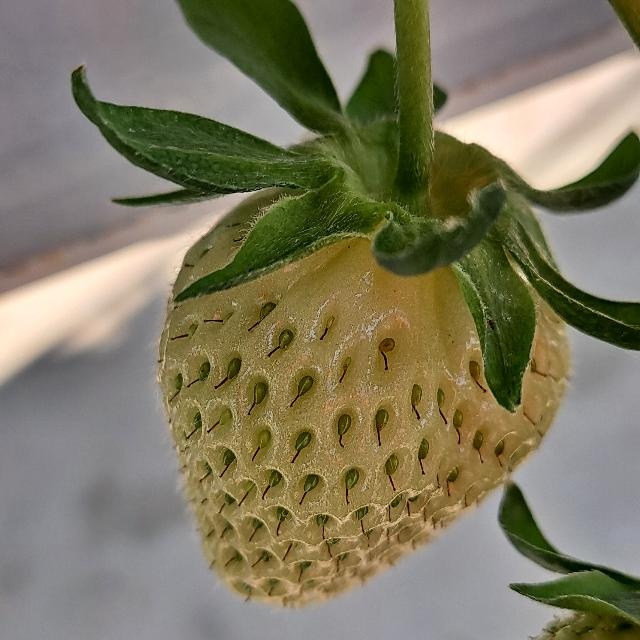Health_25: (156, 187, 570, 606)
